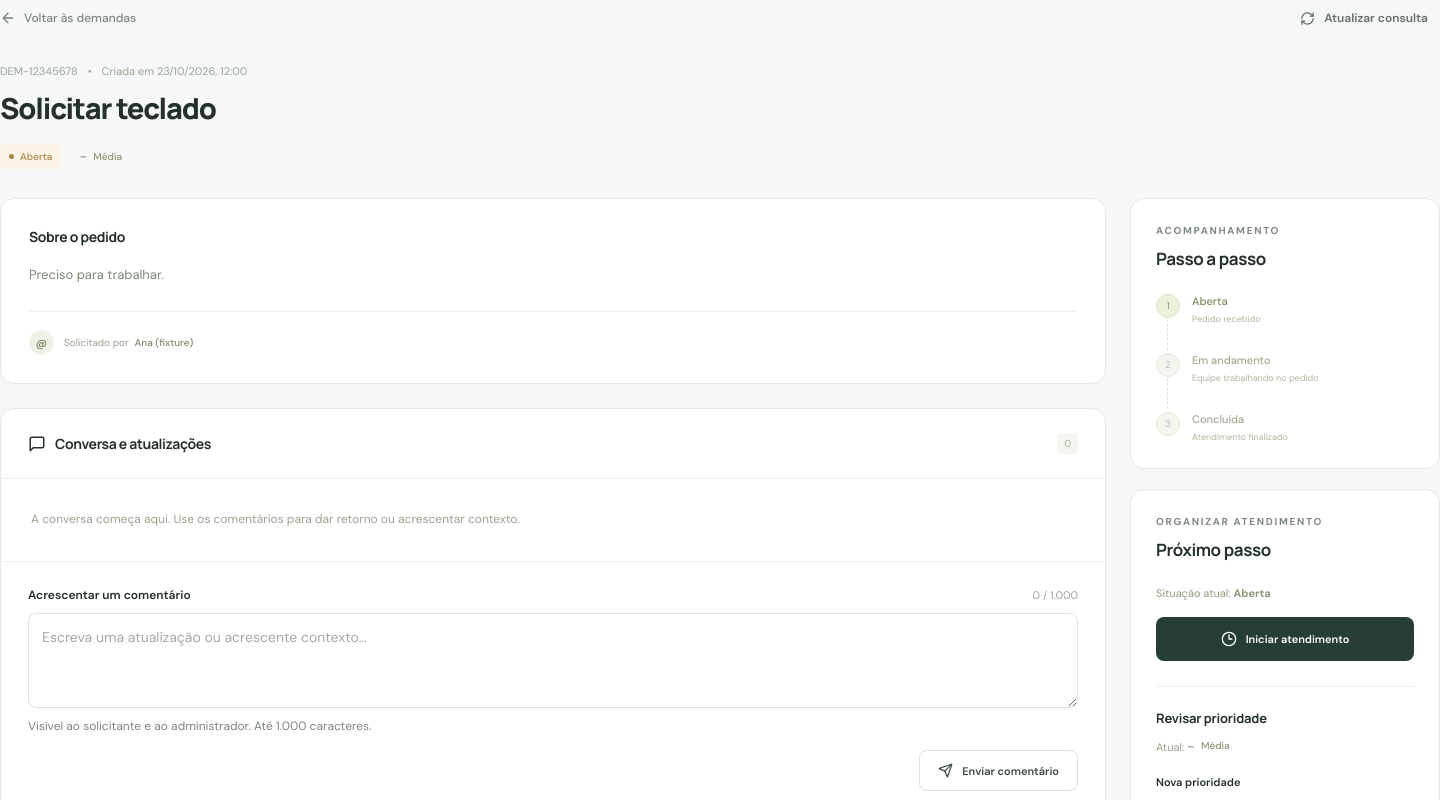
formulários preservam o trabalho quando não há confirmação › exibe o texto não enviado quando a demanda foi concluída por outra sessão
The image size is (1440, 800).
Expected: the heading "Solicitar teclado" is shown, [0,88,216,128]
Type "Texto escrito antes de concluir." into the text box labelled "Acrescentar um comentário" at (553, 661), box [28,613,1078,708]
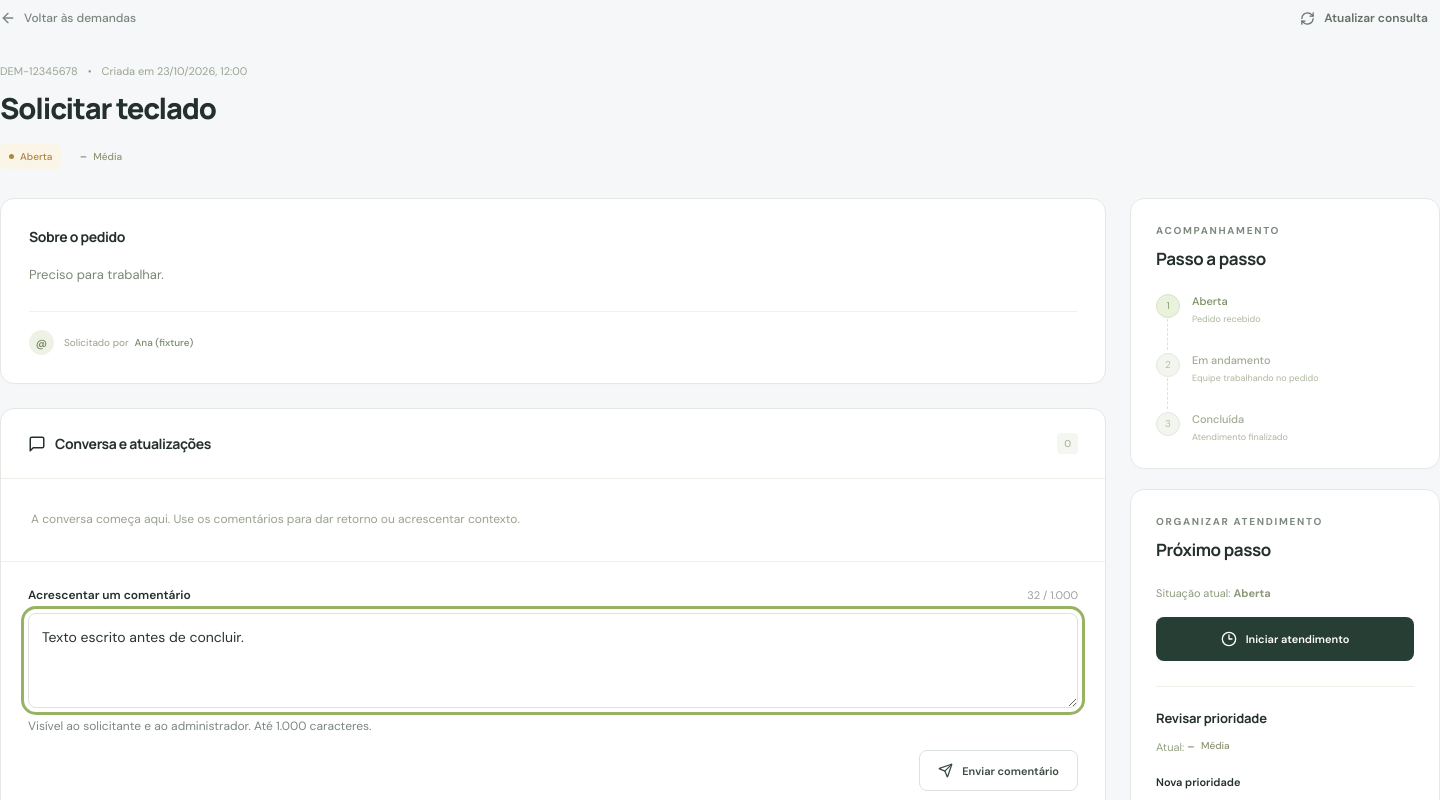
Click the button "Enviar comentário" at (999, 771), box [919,750,1078,791]
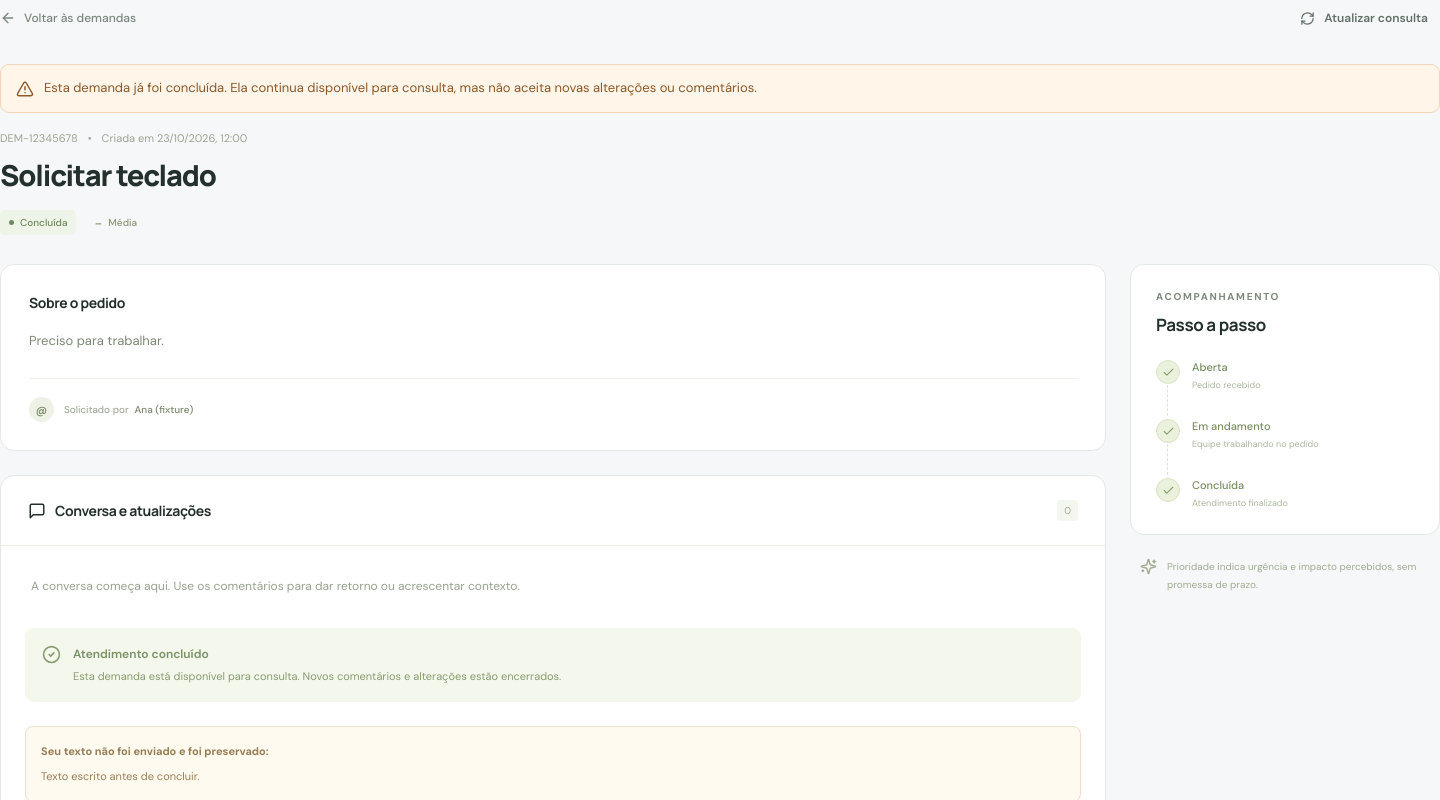
Expected: the text "Seu texto não foi enviado e foi preservado:" is shown, [41,744,268,758]
Expected: the text "Texto escrito antes de concluir." is shown, [41,769,200,783]
Expected: the button "Enviar comentário" is gone
